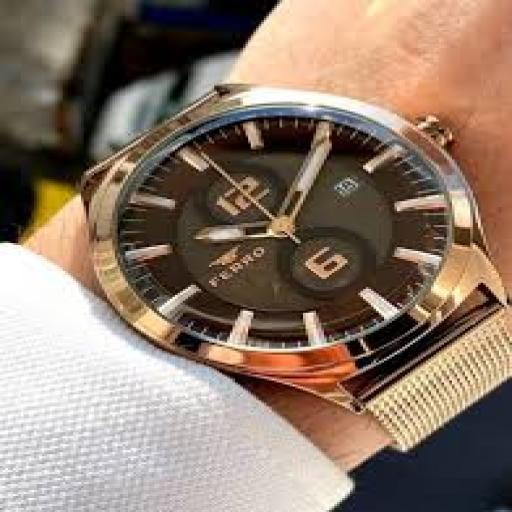KolSaati: (7, 16, 489, 445)
